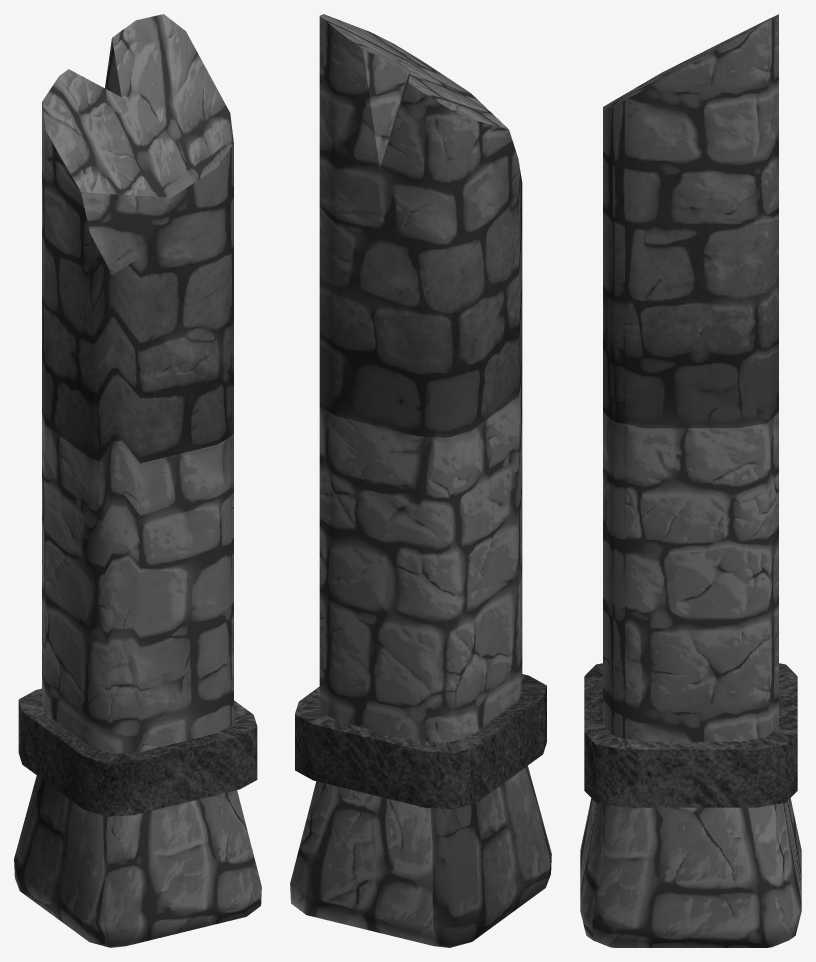
The model's file is PillarBroken.obj.
The picture shows the model from 3 angles, left to right: view 1: azimuth 30°, elevation 25°; view 2: azimuth 150°, elevation 25°; view 3: azimuth 270°, elevation 25°; orthographic projection. The views are drawn at different scales.
Visible parts, largest first — view 1: PillarBroken; view 2: PillarBroken; view 3: PillarBroken.
Part boxes in pixels (x1=…): PillarBroken: x1=14, y1=14, x2=261, y2=947; PillarBroken: x1=290, y1=14, x2=551, y2=947; PillarBroken: x1=580, y1=14, x2=801, y2=947.
Size of the model in its own units: 0.3366 by 1.55 by 0.3366.
